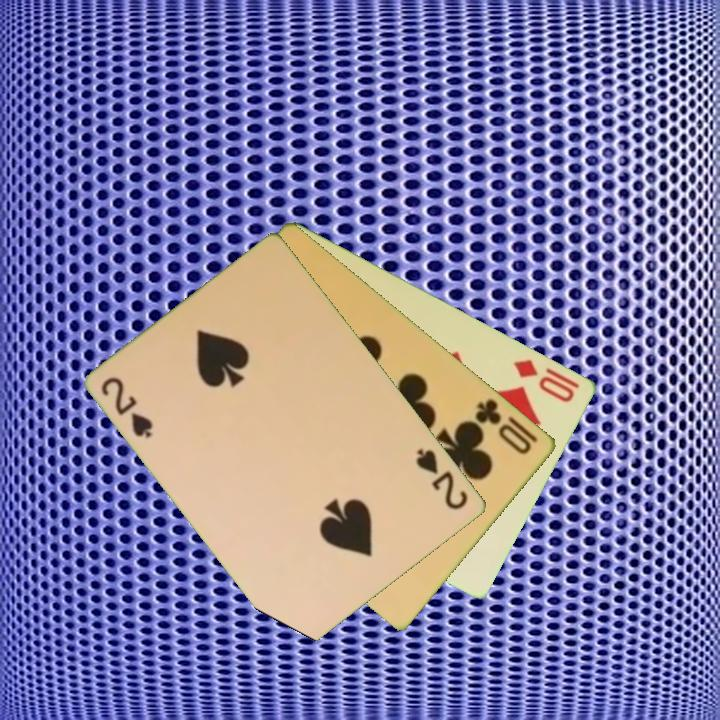10c: (471, 395, 535, 457)
10d: (510, 355, 584, 405)
2s: (412, 444, 472, 513), (98, 373, 157, 441)
